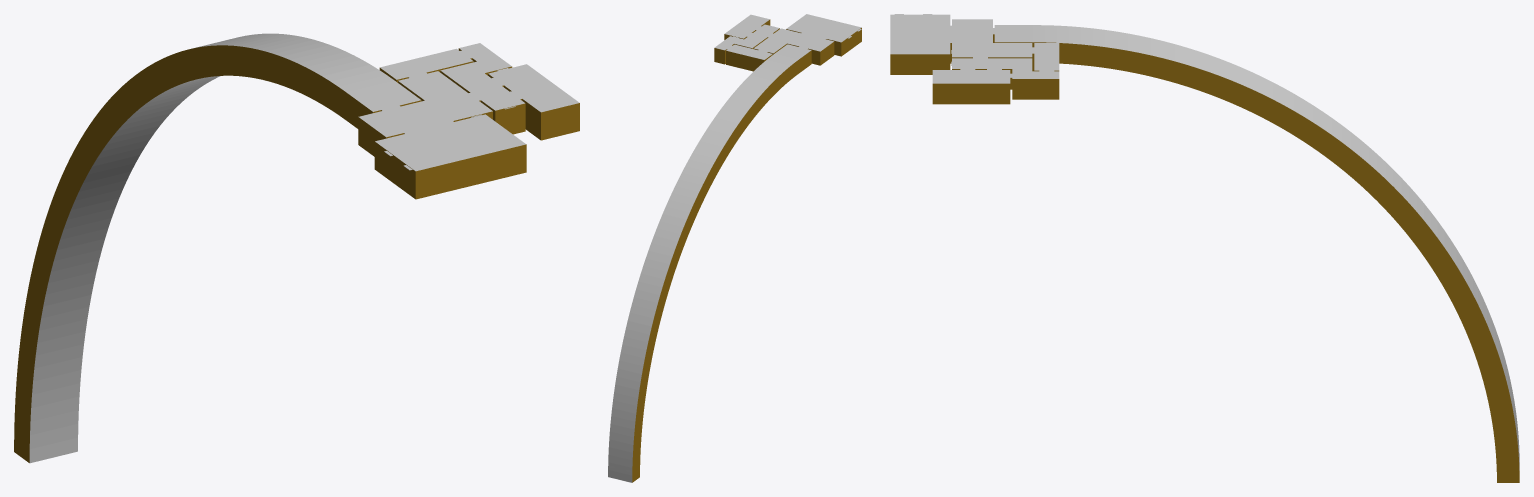
Rendered from backrooms.obj.
3 renders of one model, left to right at view 1: azimuth 30°, elevation 25°; view 2: azimuth 150°, elevation 25°; view 3: azimuth 270°, elevation 25°, orthographic. The views are drawn at different scales.
Visible parts, largest first — view 1: rooms_Cube; view 2: rooms_Cube; view 3: rooms_Cube.
Part boxes in pixels (box(x1,y1,x2,y2)): rooms_Cube: box(14, 33, 579, 463); rooms_Cube: box(608, 14, 861, 482); rooms_Cube: box(890, 14, 1519, 482).
Bounding box in the file's own units: 17.87 × 52.45 × 67.9.
